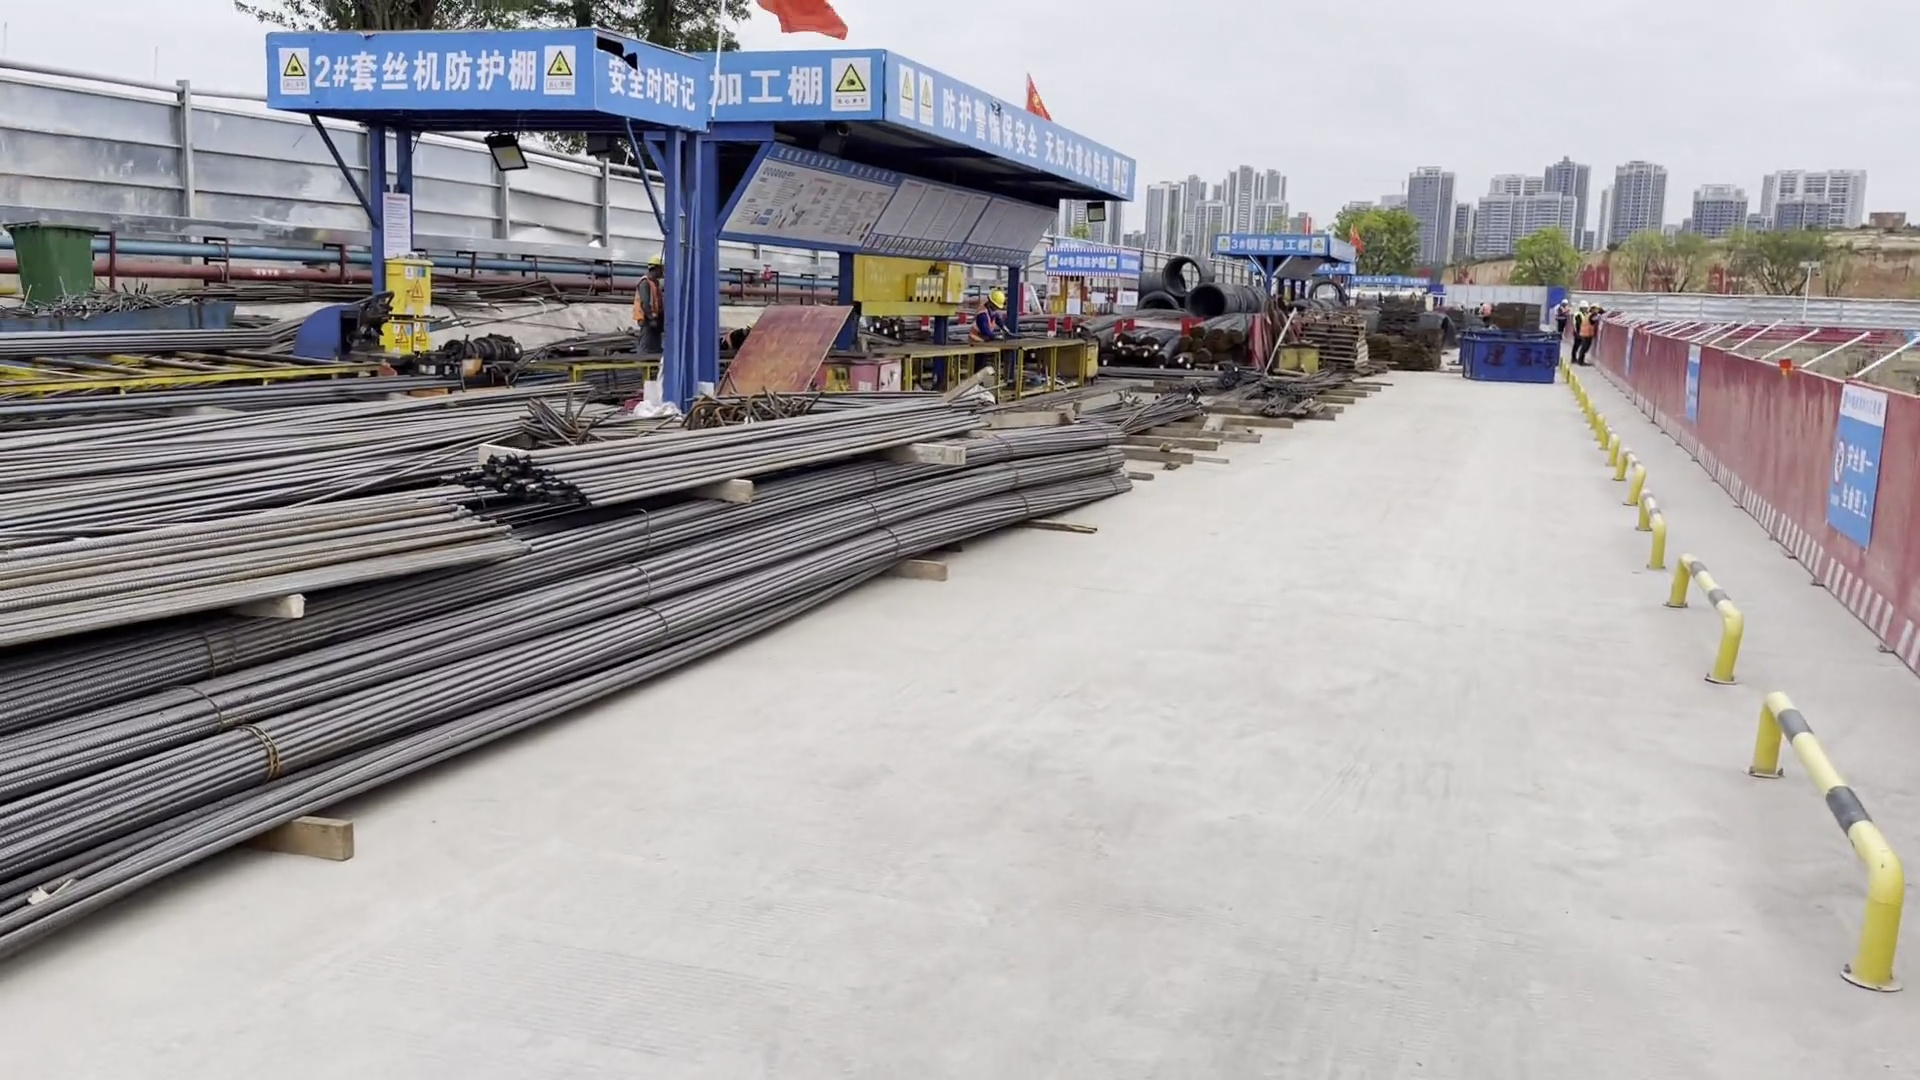ebox: (363, 254, 434, 354), (944, 260, 971, 305)
fence: (1593, 309, 1920, 677)
helmet: (985, 290, 1006, 309), (645, 254, 664, 266), (1579, 300, 1589, 309), (1560, 299, 1570, 306), (1591, 303, 1600, 308)
hopper: (1456, 326, 1558, 385)
person: (632, 252, 668, 364), (973, 290, 1011, 348), (1578, 305, 1602, 365), (1553, 298, 1571, 337), (1574, 299, 1589, 337)
rebar: (7, 342, 1163, 965), (1, 475, 544, 647), (467, 387, 996, 506), (1084, 372, 1223, 428), (1074, 305, 1187, 338), (1172, 351, 1196, 371), (1097, 346, 1115, 369), (1190, 321, 1208, 340), (1110, 328, 1132, 345), (1211, 324, 1229, 343), (1117, 345, 1135, 363), (1140, 334, 1159, 349), (1231, 325, 1247, 342), (1197, 348, 1214, 364), (1138, 346, 1154, 362), (1156, 347, 1171, 365)
slogan: (947, 87, 1122, 195), (606, 56, 714, 119)
vest: (637, 274, 665, 323), (975, 310, 1005, 341), (1582, 314, 1597, 338), (1554, 306, 1567, 322), (1574, 313, 1583, 330)
